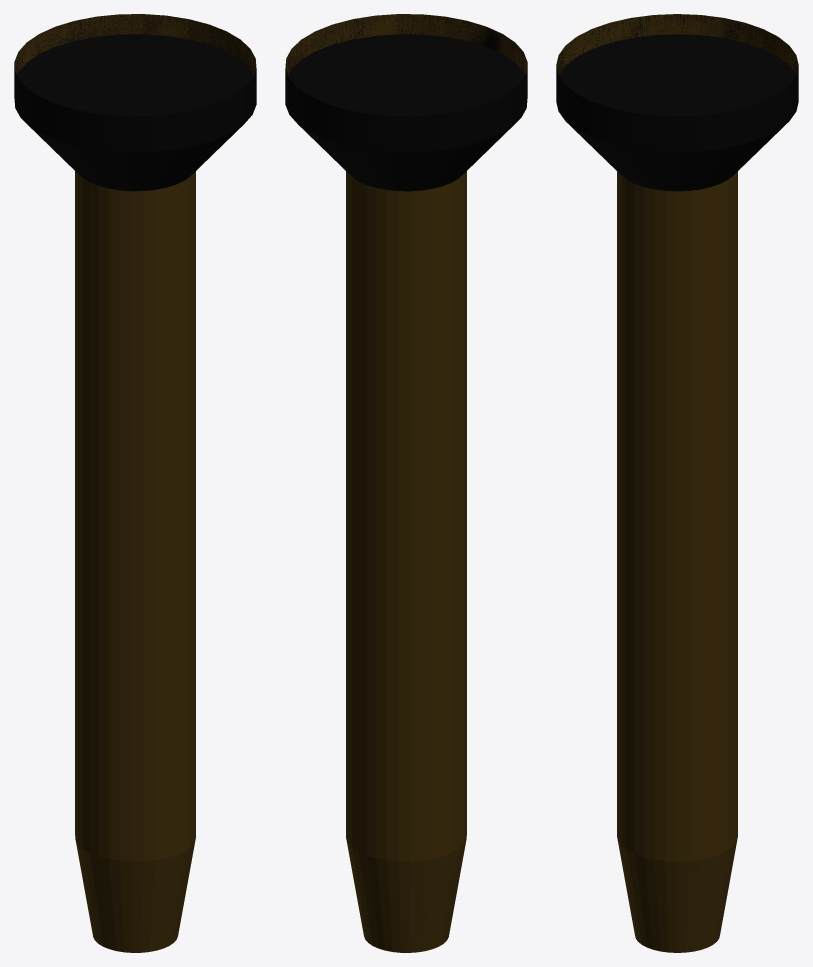
The model's file is Torch_stainding.glb.
3 renders of one model, left to right at view 1: azimuth 30°, elevation 25°; view 2: azimuth 150°, elevation 25°; view 3: azimuth 270°, elevation 25°, orthographic.
Parts seen in each view (by area): view 1: Torch_col; view 2: Torch_col; view 3: Torch_col.
Boxes of the visible parts, box(x1,y1,x2,y2) form: Torch_col: box(14, 14, 256, 952); Torch_col: box(285, 14, 527, 952); Torch_col: box(556, 14, 798, 952).
Bounding box in the file's own units: 2.68 × 10.6 × 2.68.
